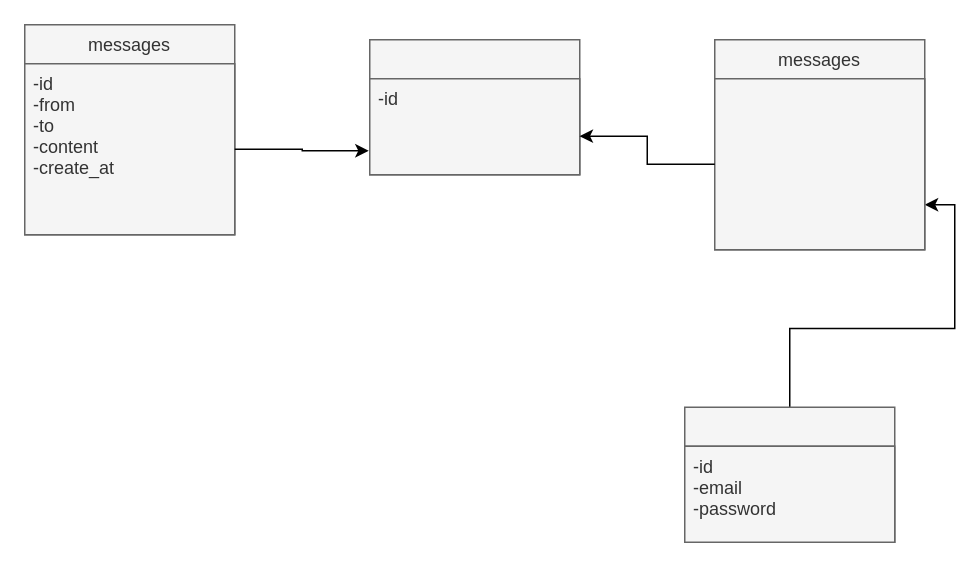
This 980x567 diagram has some shape labels left out. Here are the shapes that lost their labels. From the top down, the box of each, then its label:
(368, 38, 580, 175): conversation
(713, 77, 925, 250): -user_id -conversation-id -read_at
(683, 406, 895, 542): user
